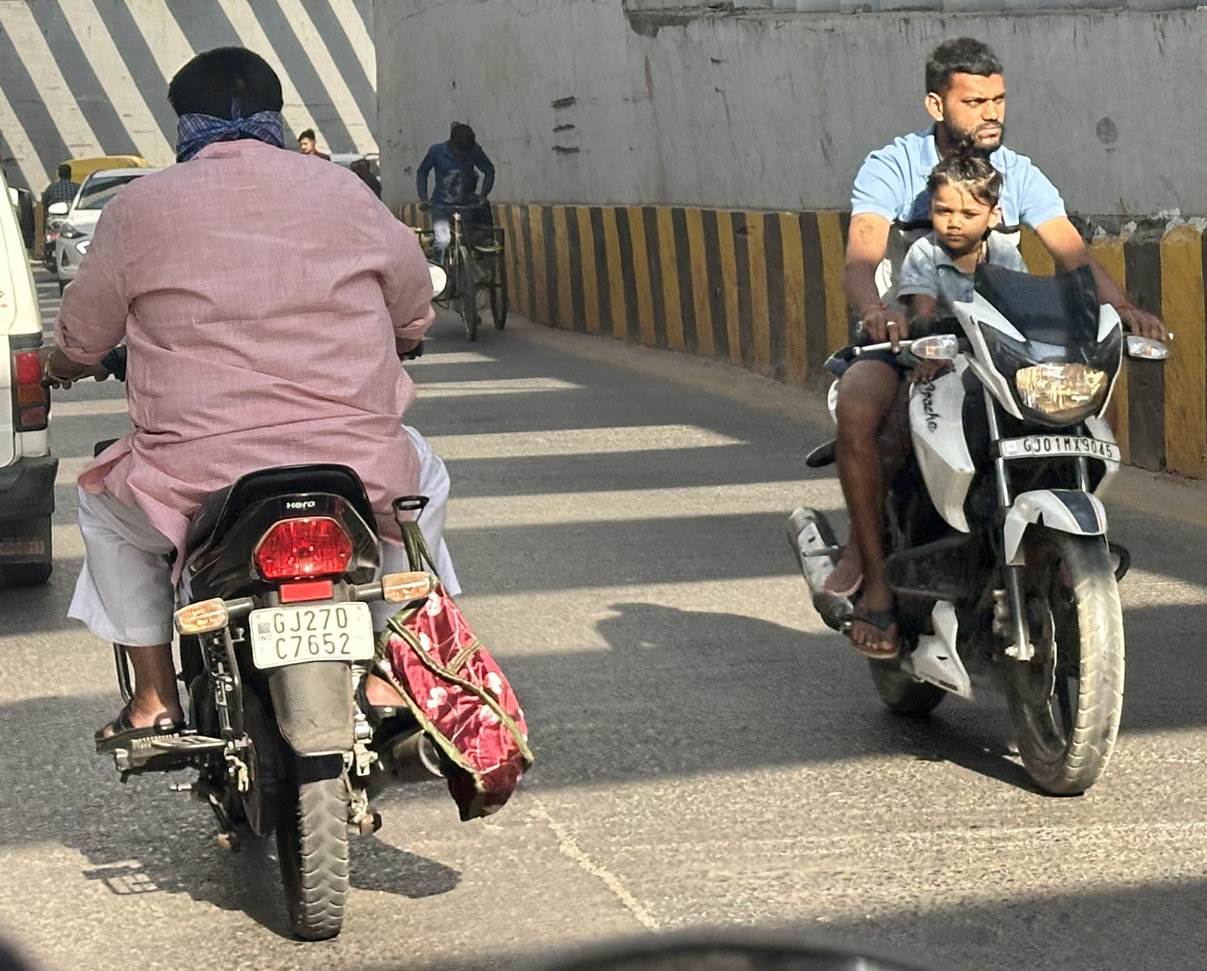BikeWithRider: (34, 35, 540, 944), (769, 24, 1181, 811)
NoHelmet: (158, 40, 299, 164), (910, 32, 1024, 156), (913, 152, 1014, 263)
